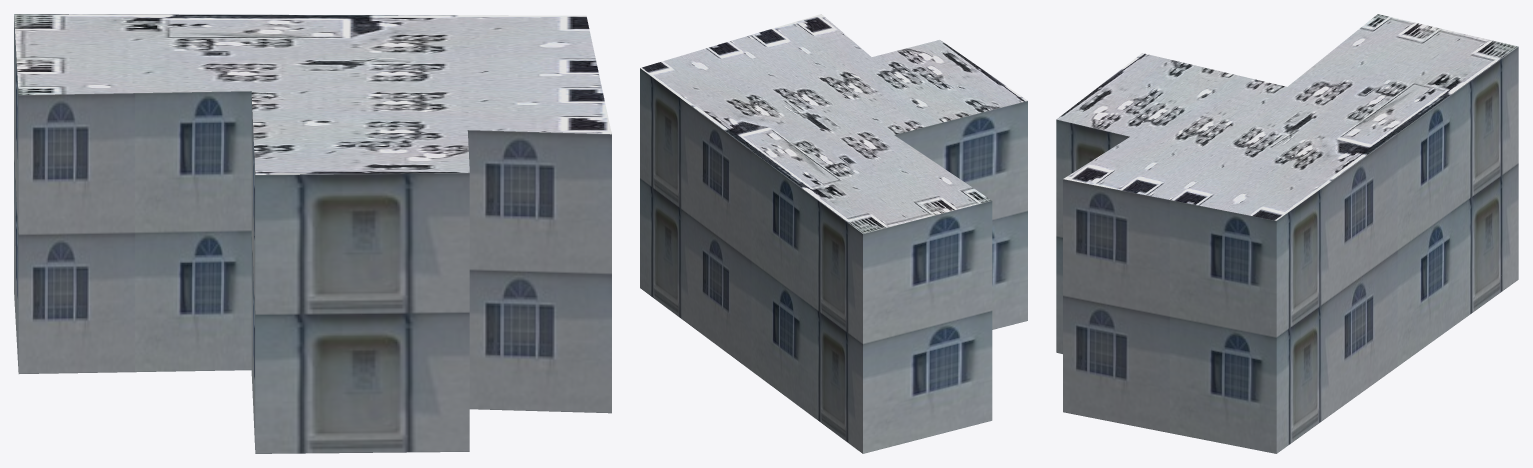
File: ResTex__1143.fbx
The picture shows the model from 3 angles, left to right: view 1: azimuth 30°, elevation 25°; view 2: azimuth 150°, elevation 25°; view 3: azimuth 270°, elevation 25°; orthographic projection. The views are drawn at different scales.
Visible parts, largest first — view 1: CityEngineMaterial_17_m, CityEngineMaterial_4_m; view 2: CityEngineMaterial_17_m, CityEngineMaterial_4_m; view 3: CityEngineMaterial_17_m, CityEngineMaterial_4_m.
Part boxes in pixels (box(x1,y1,x2,y2)): CityEngineMaterial_17_m: box(14, 16, 611, 453); CityEngineMaterial_4_m: box(14, 14, 611, 174); CityEngineMaterial_17_m: box(640, 68, 1027, 453); CityEngineMaterial_4_m: box(640, 14, 1027, 233); CityEngineMaterial_17_m: box(1056, 47, 1518, 453); CityEngineMaterial_4_m: box(1056, 14, 1518, 220).
Bounding box in the file's own units: 11.41 × 6 × 10.78.
Materials: 2 (2 with a texture image).
